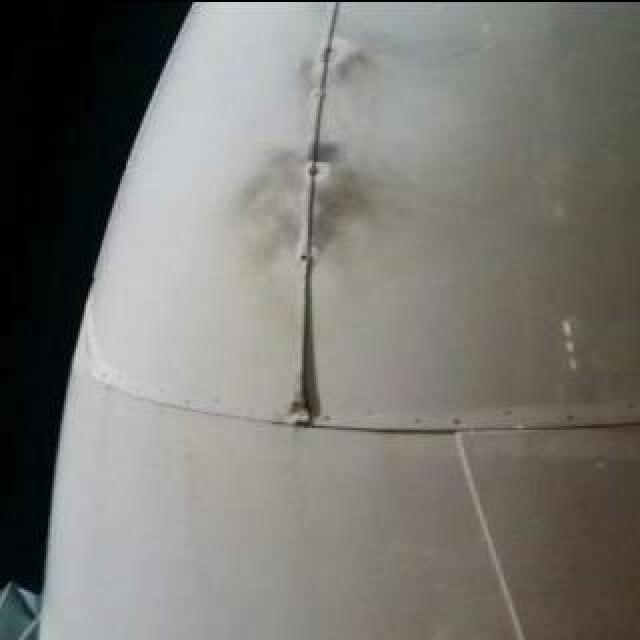crack: (280, 373, 328, 429)
dent: (255, 141, 363, 269), (299, 34, 363, 98)
